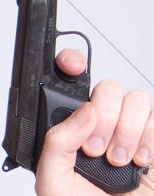pistol: (3, 1, 151, 196)
